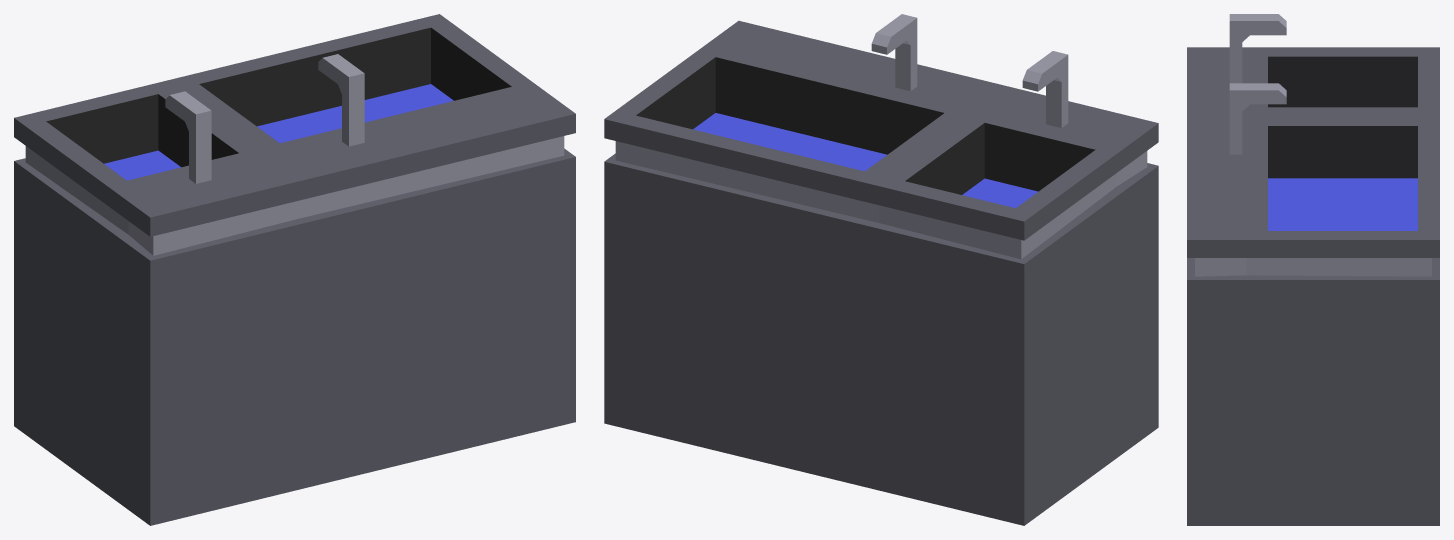
File: DishWasher.fbx
The picture shows the model from 3 angles, left to right: view 1: azimuth 30°, elevation 25°; view 2: azimuth 150°, elevation 25°; view 3: azimuth 270°, elevation 25°; orthographic projection. The views are drawn at different scales.
Visible parts, largest first — view 1: DishWasher; view 2: DishWasher; view 3: DishWasher.
Part boxes in pixels (x1=…): DishWasher: x1=14, y1=14, x2=575, y2=525; DishWasher: x1=604, y1=14, x2=1158, y2=525; DishWasher: x1=1187, y1=14, x2=1439, y2=525.
Size of the model in its own units: 100 by 85 by 55.56.
